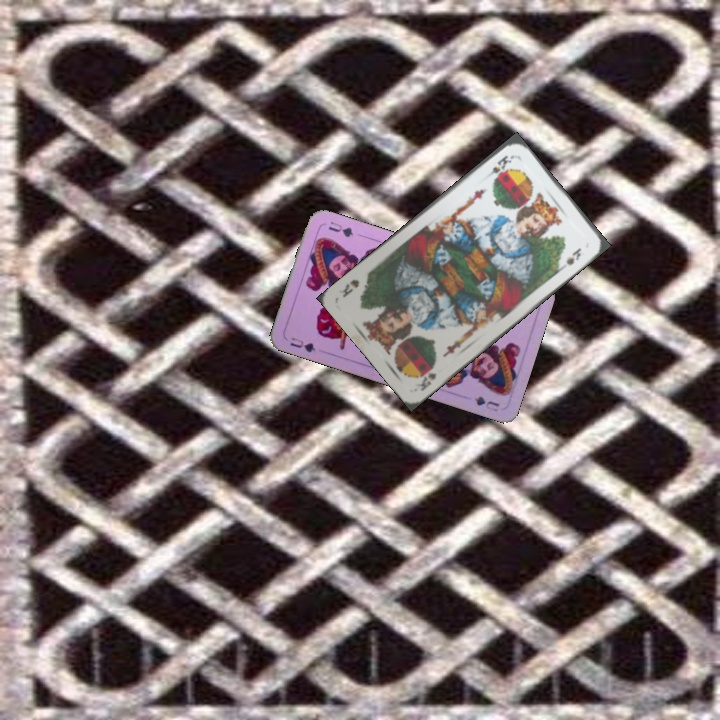GU: (286, 333, 319, 355)
SK: (481, 151, 516, 181), (413, 362, 439, 394)
